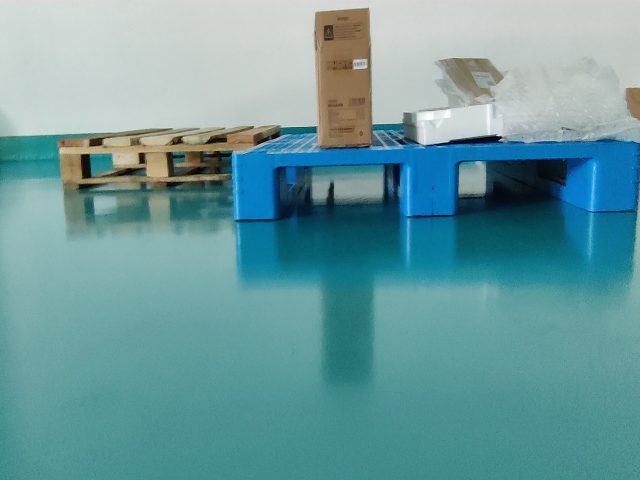block: (398, 148, 458, 217), (587, 144, 636, 215), (230, 153, 278, 223)
front: (231, 142, 638, 222)
hole pallet: (275, 164, 407, 220), (459, 156, 592, 210)
